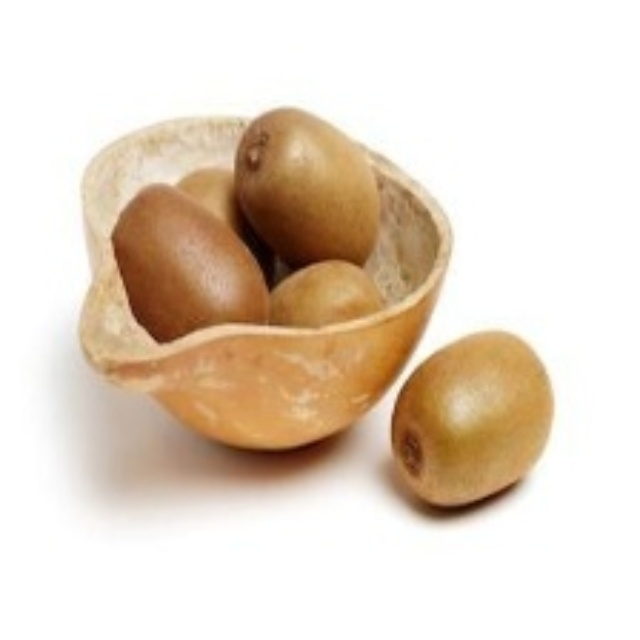kiwi: (391, 332, 558, 521), (113, 193, 268, 348), (238, 108, 373, 266)
